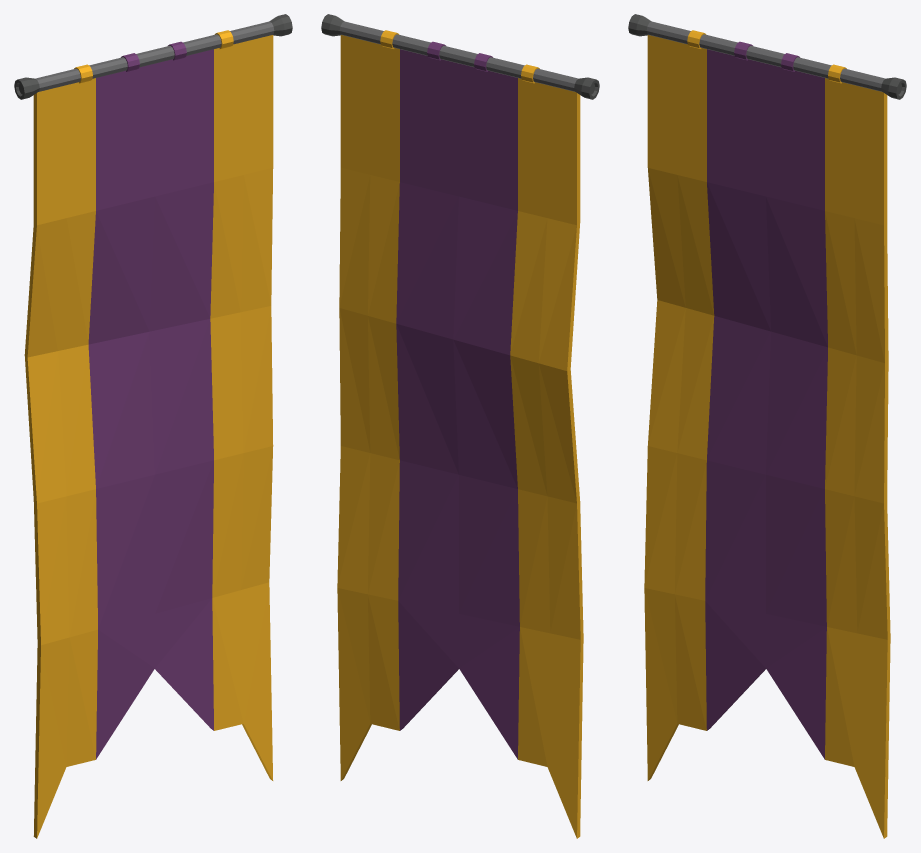
Rendered from SFHW_Banner_001.fbx.
The picture shows the model from 3 angles, left to right: view 1: azimuth 30°, elevation 25°; view 2: azimuth 150°, elevation 25°; view 3: azimuth 330°, elevation 25°; orthographic projection.
Parts seen in each view (by area): view 1: SFHW_Banner_001; view 2: SFHW_Banner_001; view 3: SFHW_Banner_001.
Part boxes in pixels (bbox=[...]): SFHW_Banner_001: bbox=[14, 14, 292, 838]; SFHW_Banner_001: bbox=[321, 14, 599, 838]; SFHW_Banner_001: bbox=[628, 14, 906, 838].
Size of the model in its own units: 40.15 by 109 by 4.24.
